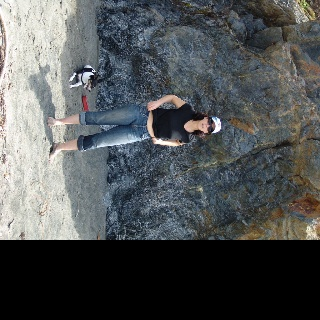without_mask: (196, 118, 215, 132)
